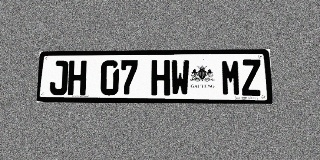0: (100, 60, 119, 95)
7: (119, 60, 138, 95)
H: (151, 60, 170, 96), (68, 60, 87, 95)
J: (49, 61, 68, 95)
M: (221, 59, 241, 96)
W: (171, 60, 190, 96)
Z: (241, 59, 262, 96)
